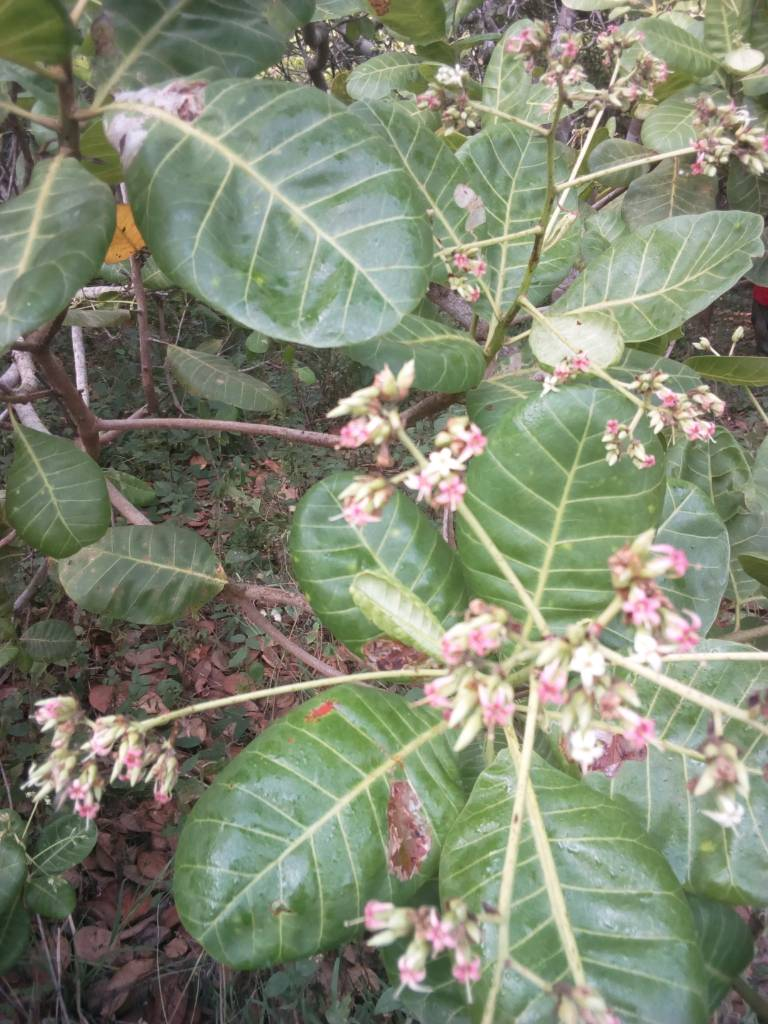Helopeltis anacardii: (122, 75, 432, 342), (15, 421, 110, 558)
